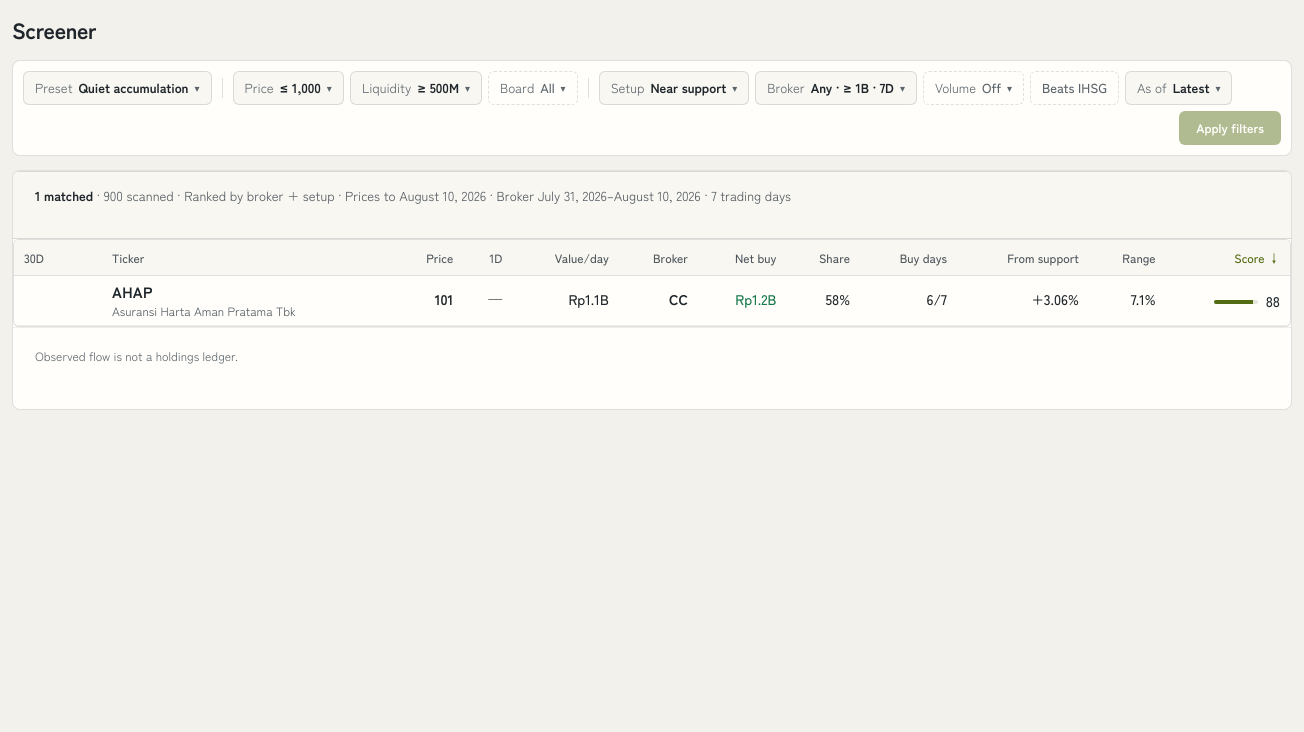
Test: Radar › keeps score breakdown in the panel rather than the row
Expected: the field labelled "Score breakdown" is not shown
Click the button with aria-label "Show AHAP details". click: x=132, y=291
box: [112,281,153,302]
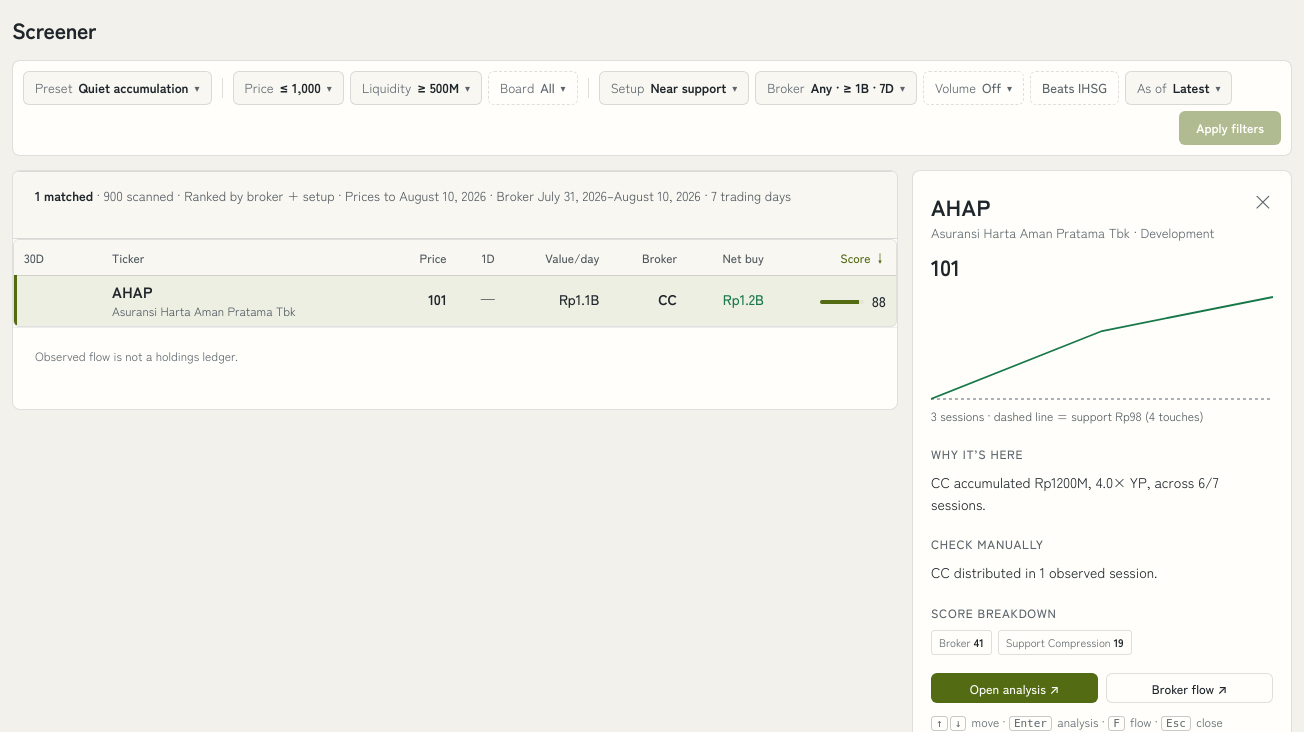
Now the text "Broker" is shown, box [939,634,971,650]
Now the text "41" is shown, box [974,634,984,650]
Now the text "Support Compression" is shown, box [1006,634,1111,650]
